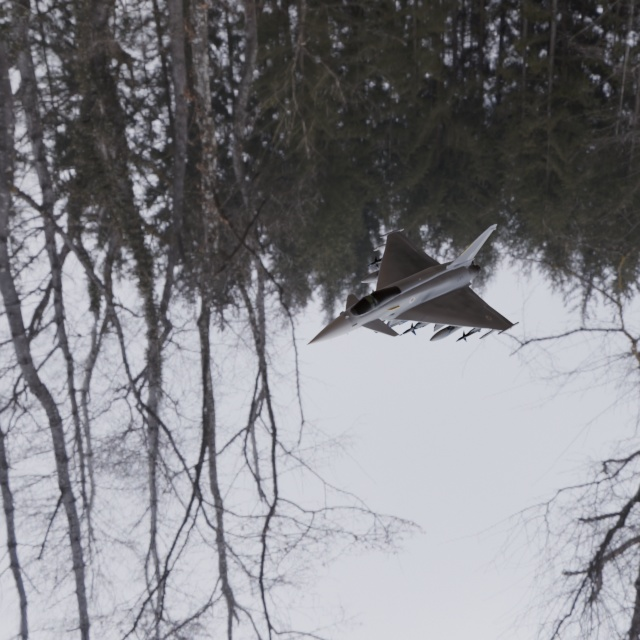eurofighter_typhoon_3d: (237, 177, 562, 432)
